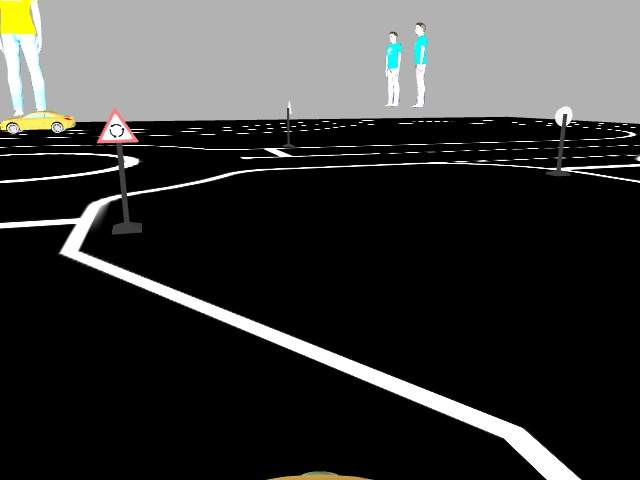Roundabout: (94, 106, 139, 143)
